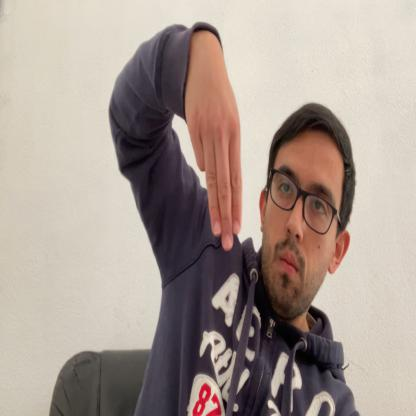M: (185, 41, 243, 253)
